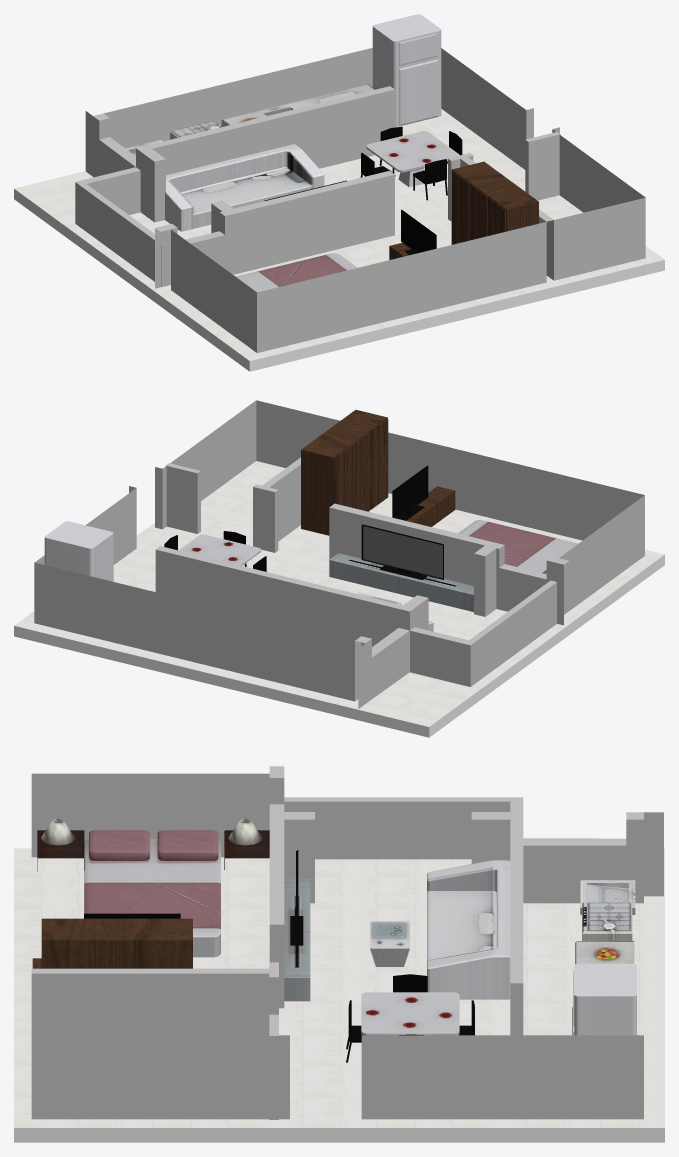
Rendered from apto.glb.
The picture shows the model from 3 angles, top to bottom: view 1: azimuth 30°, elevation 25°; view 2: azimuth 150°, elevation 25°; view 3: azimuth 270°, elevation 25°; orthographic projection. The views are drawn at different scales.
Parts seen in each view (by area): view 1: Cube.004; view 2: Cube.004; view 3: Cube.004.
Part boxes in pixels (left/top/right/bottom): Cube.004: left=14, top=14, right=664, bottom=371; Cube.004: left=14, top=400, right=664, bottom=737; Cube.004: left=14, top=766, right=664, bottom=1142.
Size of the model in its own units: 0.3183 by 0.0733 by 0.3132.
6 materials, 3 textured.
